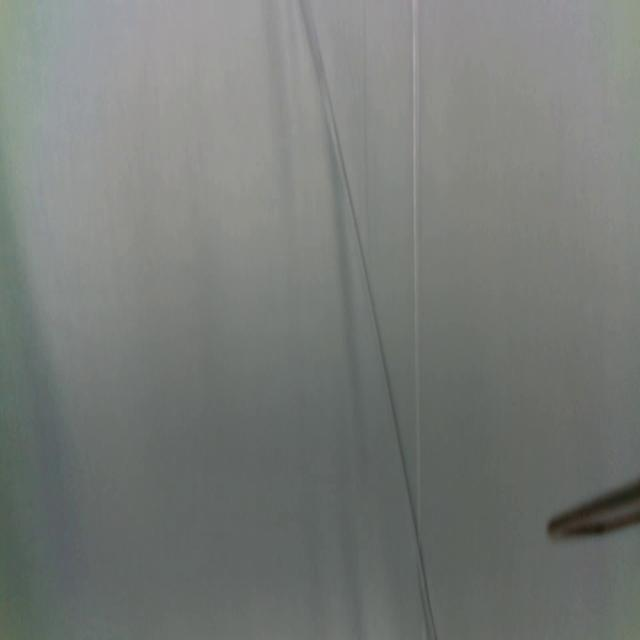crease: (302, 0, 436, 640), (410, 0, 423, 534), (360, 0, 370, 239)
